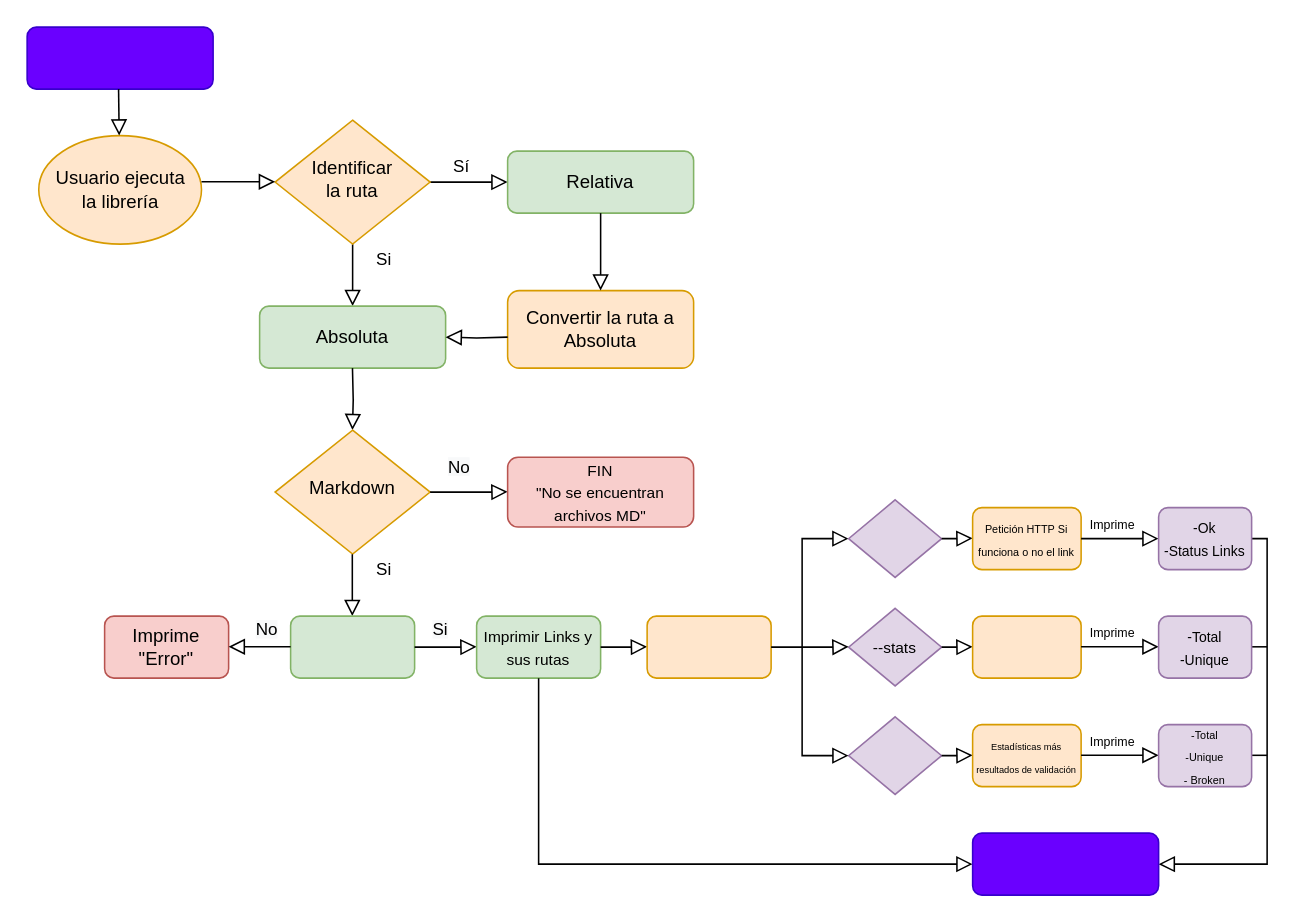
Image size: 1310x922. Some labels were removed from this diagram. The centre of each missing label's shape, as x and y in pixels:
--validate: the point at 894,537
--validate --stats: the point at 894,754
El usuario solicita: the point at 708,646
Estadística sobre los links: the point at 1026,646
FIN: the point at 1065,863
Hay Links: the point at 352,646
INICIO: the point at 119,57
